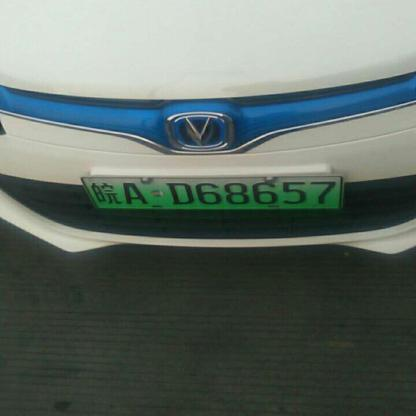lp: (80, 176, 340, 209)
